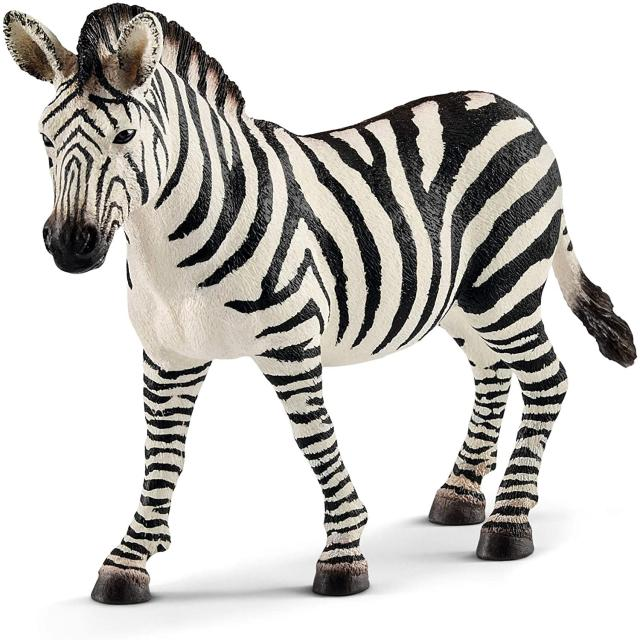zebra: (5, 4, 635, 602)
